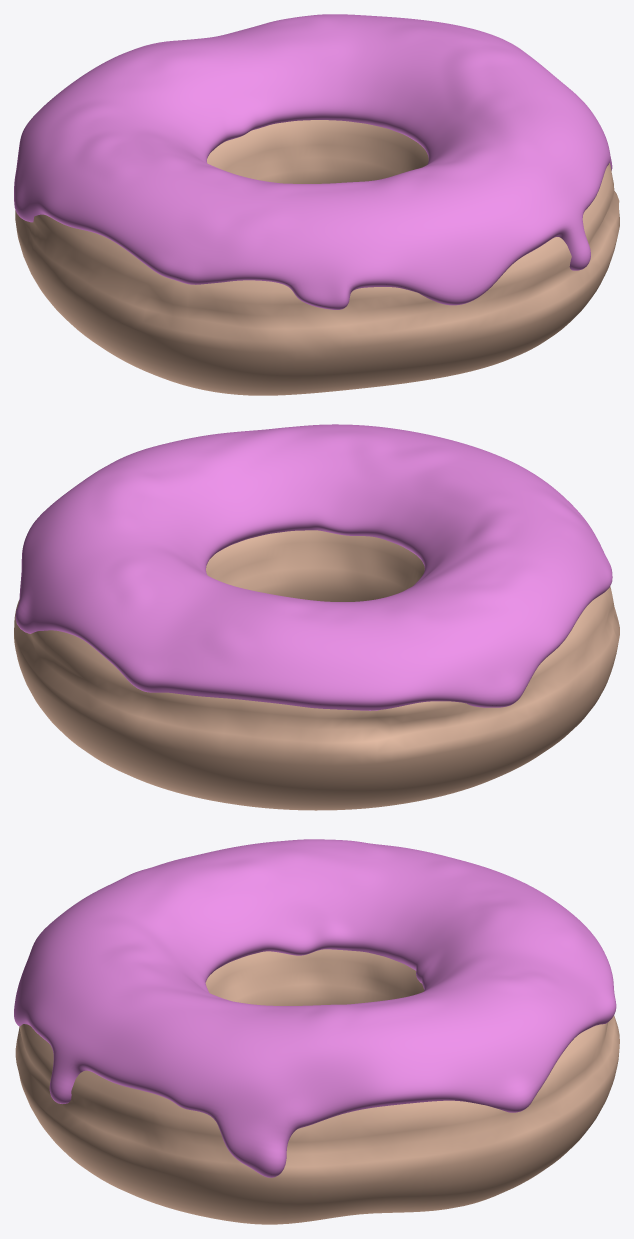
Rendered from Dount.glb.gltf.
The picture shows the model from 3 angles, top to bottom: view 1: azimuth 30°, elevation 25°; view 2: azimuth 150°, elevation 25°; view 3: azimuth 270°, elevation 25°; orthographic projection.
Visible parts, largest first — view 1: Icing, Donut; view 2: Icing, Donut; view 3: Icing, Donut.
Boxes of the visible parts, box(x1,y1,x2,y2) form: Icing: box(14, 14, 612, 309); Donut: box(15, 120, 619, 395); Icing: box(15, 424, 612, 710); Donut: box(14, 530, 619, 810); Icing: box(14, 839, 616, 1177); Donut: box(15, 949, 619, 1224).
Bounding box in the file's own units: 0.1501 × 0.056 × 0.148.
